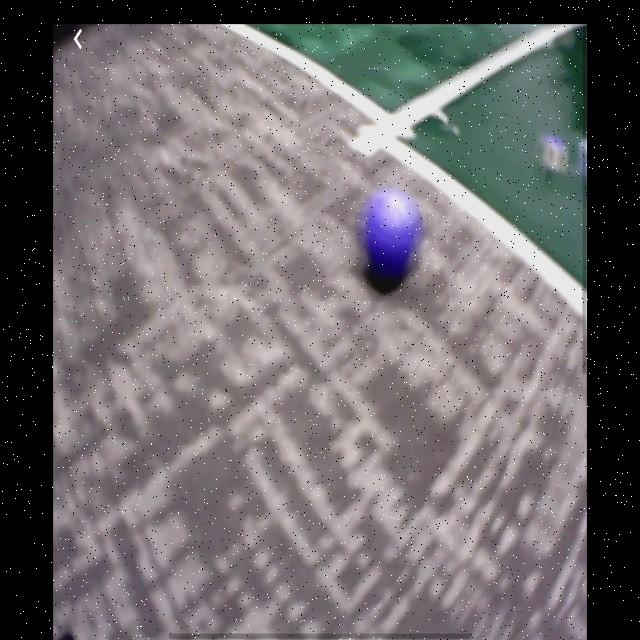ball: (364, 190, 424, 287)
